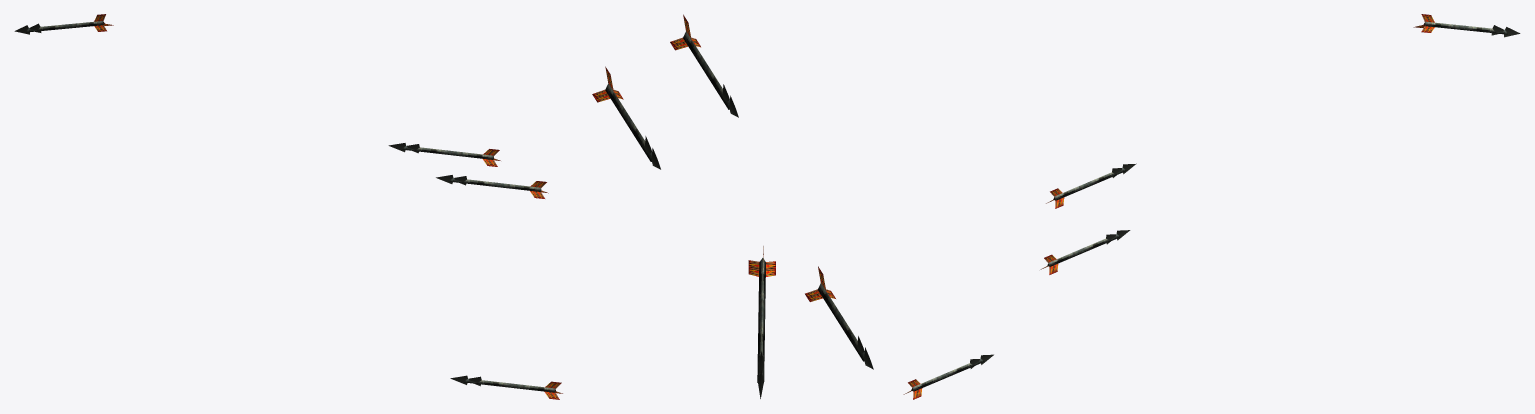
File: CH11CIN2_ANIM_INST.fbx
3 views of the same model, side by side, from view 1: azimuth 30°, elevation 25°; view 2: azimuth 150°, elevation 25°; view 3: azimuth 270°, elevation 25° (orthographic). The views are drawn at different scales.
Parts seen in each view (by area): view 1: CH11CIN2_ANIM_INST; view 2: CH11CIN2_ANIM_INST; view 3: CH11CIN2_ANIM_INST.
Boxes of the visible parts, x1,y1,x2,y2 form: CH11CIN2_ANIM_INST: [14, 14, 562, 399]; CH11CIN2_ANIM_INST: [592, 14, 873, 398]; CH11CIN2_ANIM_INST: [903, 14, 1520, 399].
Size of the model in its own units: 28054 by 22101 by 45350.
1 material, 1 textured.
